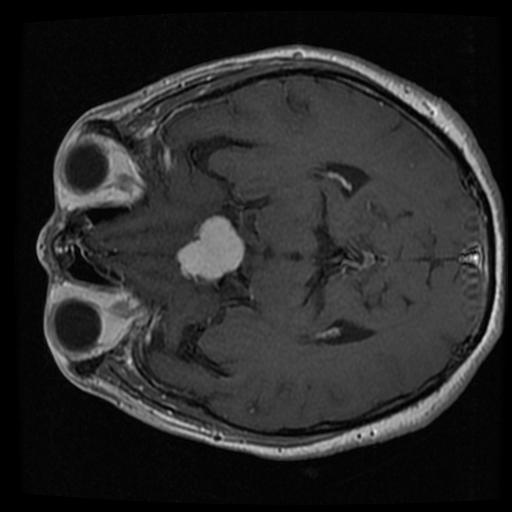meningioma: (176, 217, 245, 280)
